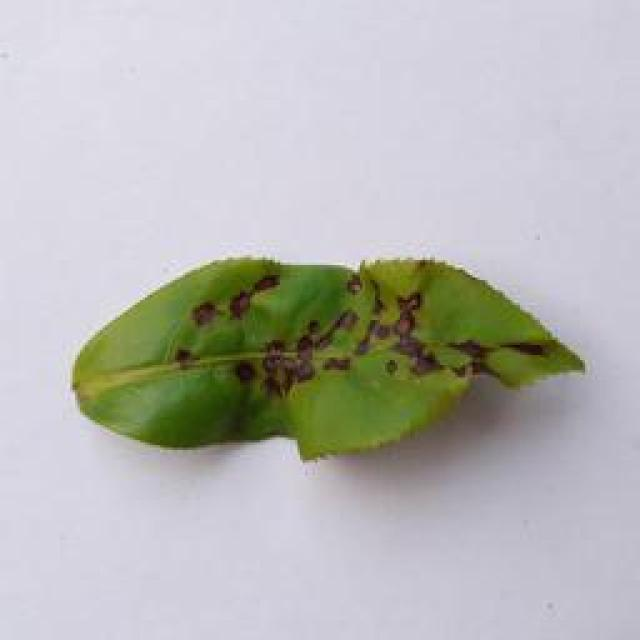Helopeltis: (64, 241, 601, 468)
